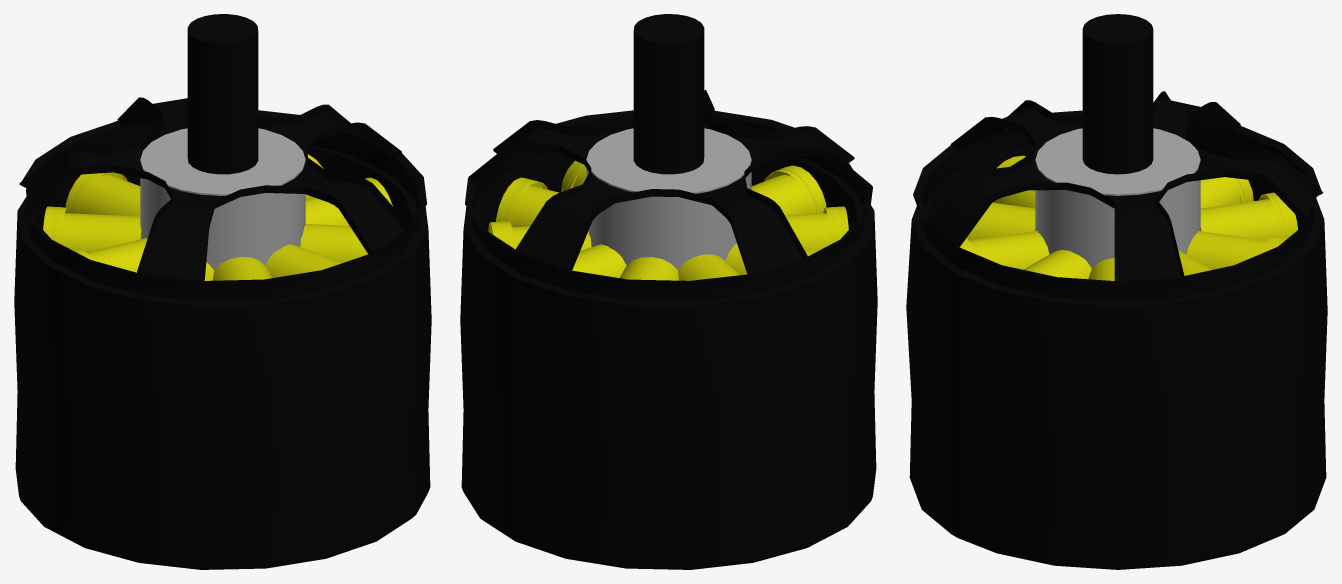
Rendered from motor_type_3.fbx.
3 renders of one model, left to right at view 1: azimuth 30°, elevation 25°; view 2: azimuth 150°, elevation 25°; view 3: azimuth 270°, elevation 25°, orthographic.
Visible parts, largest first — view 1: pCylinder16, pCylinder17, coil_7_62, coil_7_63, coil_7_57, coil_7_58, coil_7_61, coil_7_60, coil; view 2: pCylinder16, pCylinder17, coil_7_60, coil, coil_7_59, coil_7_64, coil_7_62, coil_7_63, coil_7_65, coil_7_57; view 3: pCylinder16, pCylinder17, coil_7_63, coil_7_64, coil_7_58, coil_7_60, coil_7_62, coil_7_57, coil_7_59.
Boxes of the visible parts, x1=… form: pCylinder16: x1=14, y1=14, x2=431, y2=569; pCylinder17: x1=140, y1=128, x2=305, y2=269; coil_7_62: x1=43, y1=206, x2=141, y2=252; coil_7_63: x1=65, y1=172, x2=140, y2=216; coil_7_57: x1=300, y1=224, x2=367, y2=262; coil_7_58: x1=265, y1=244, x2=348, y2=277; coil_7_61: x1=72, y1=238, x2=147, y2=272; coil_7_60: x1=213, y1=257, x2=271, y2=280; coil: x1=305, y1=177, x2=392, y2=225; pCylinder16: x1=460, y1=14, x2=877, y2=569; pCylinder17: x1=586, y1=128, x2=751, y2=269; coil_7_60: x1=751, y1=165, x2=826, y2=214; coil: x1=496, y1=177, x2=558, y2=226; coil_7_59: x1=785, y1=206, x2=848, y2=251; coil_7_64: x1=572, y1=244, x2=626, y2=277; coil_7_62: x1=678, y1=254, x2=739, y2=280; coil_7_63: x1=620, y1=257, x2=678, y2=280; coil_7_65: x1=488, y1=221, x2=591, y2=251; coil_7_57: x1=561, y1=160, x2=586, y2=191; pCylinder16: x1=906, y1=14, x2=1327, y2=569; pCylinder17: x1=1035, y1=128, x2=1200, y2=267; coil_7_63: x1=1200, y1=192, x2=1297, y2=240; coil_7_64: x1=1186, y1=231, x2=1288, y2=269; coil_7_58: x1=959, y1=231, x2=1049, y2=269; coil_7_60: x1=966, y1=202, x2=1035, y2=240; coil_7_62: x1=1200, y1=177, x2=1253, y2=208; coil_7_57: x1=1023, y1=250, x2=1091, y2=279; coil_7_59: x1=993, y1=155, x2=1035, y2=208.
Bounding box in the file's own units: 2.54 × 3.03 × 2.55.
